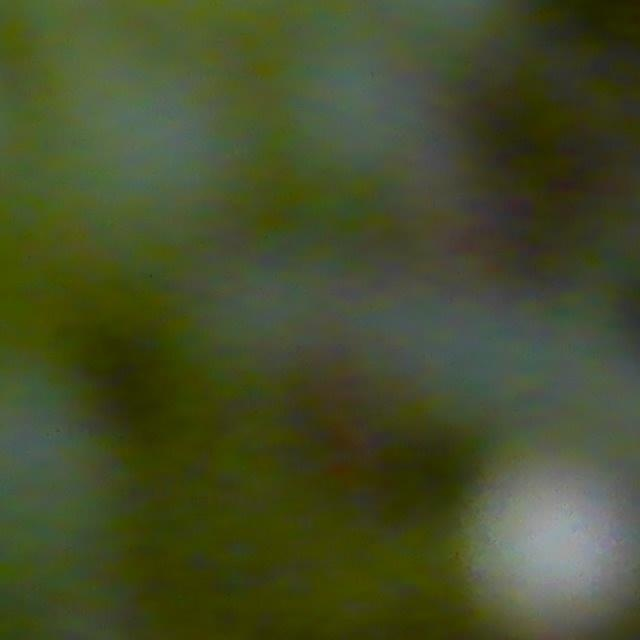SeaGrape: (15, 51, 240, 293), (260, 28, 469, 233)
